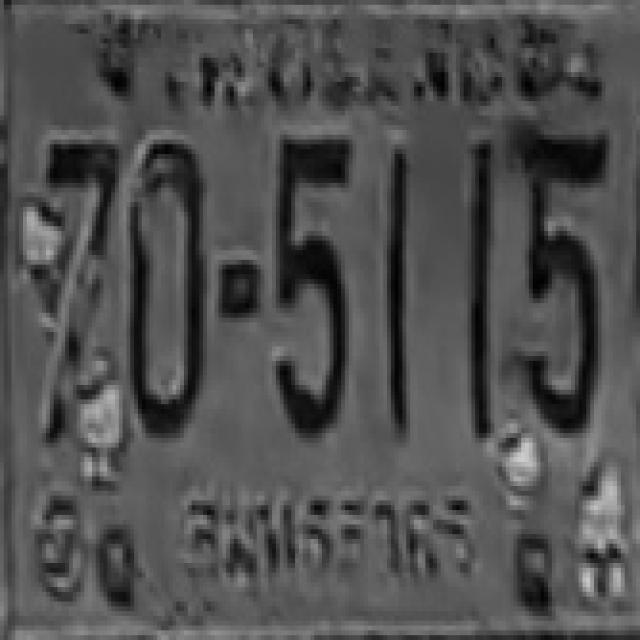0: (128, 137, 205, 436)
1: (464, 140, 494, 380), (383, 147, 410, 392)
SamutSakhon: (162, 480, 489, 586)
